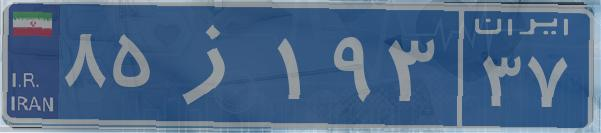1: (273, 28, 330, 110)
3: (385, 28, 445, 110), (475, 38, 525, 113)
5: (110, 28, 158, 105)
7: (525, 38, 570, 115)
8: (57, 26, 110, 107)
9: (330, 28, 385, 110)
ز: (158, 15, 273, 115)
